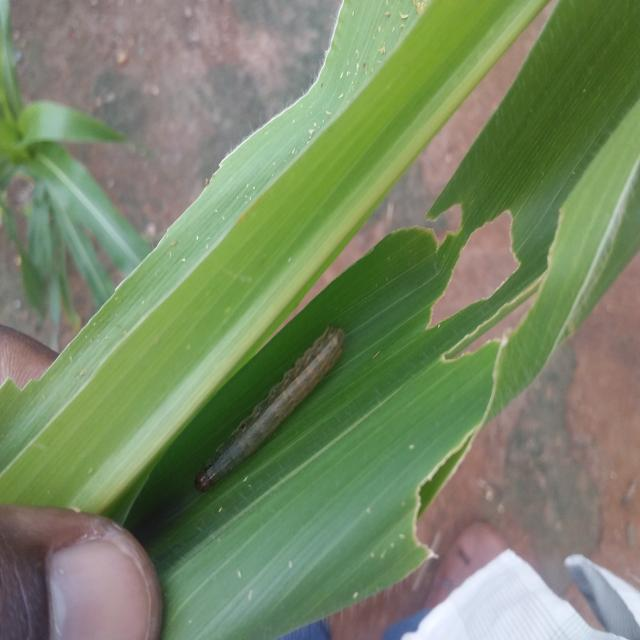yellow-stem-borer-larva: (187, 315, 353, 499)
